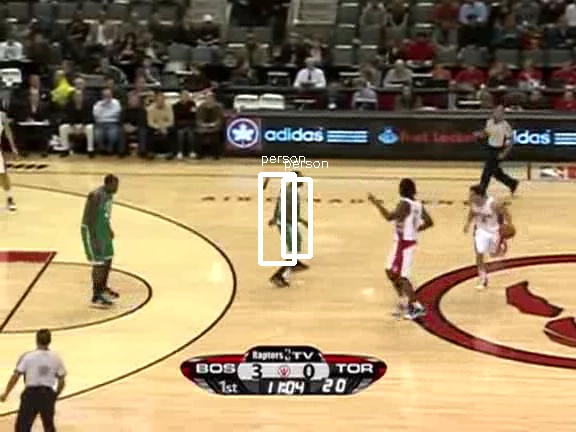person: (273, 180, 307, 261), (272, 180, 306, 261), (274, 180, 308, 261), (273, 179, 307, 260), (273, 181, 307, 262)
target_negative: (31, 308, 483, 397), (108, 97, 198, 228), (323, 337, 484, 403), (509, 256, 563, 372), (361, 333, 421, 411), (295, 401, 328, 410)
